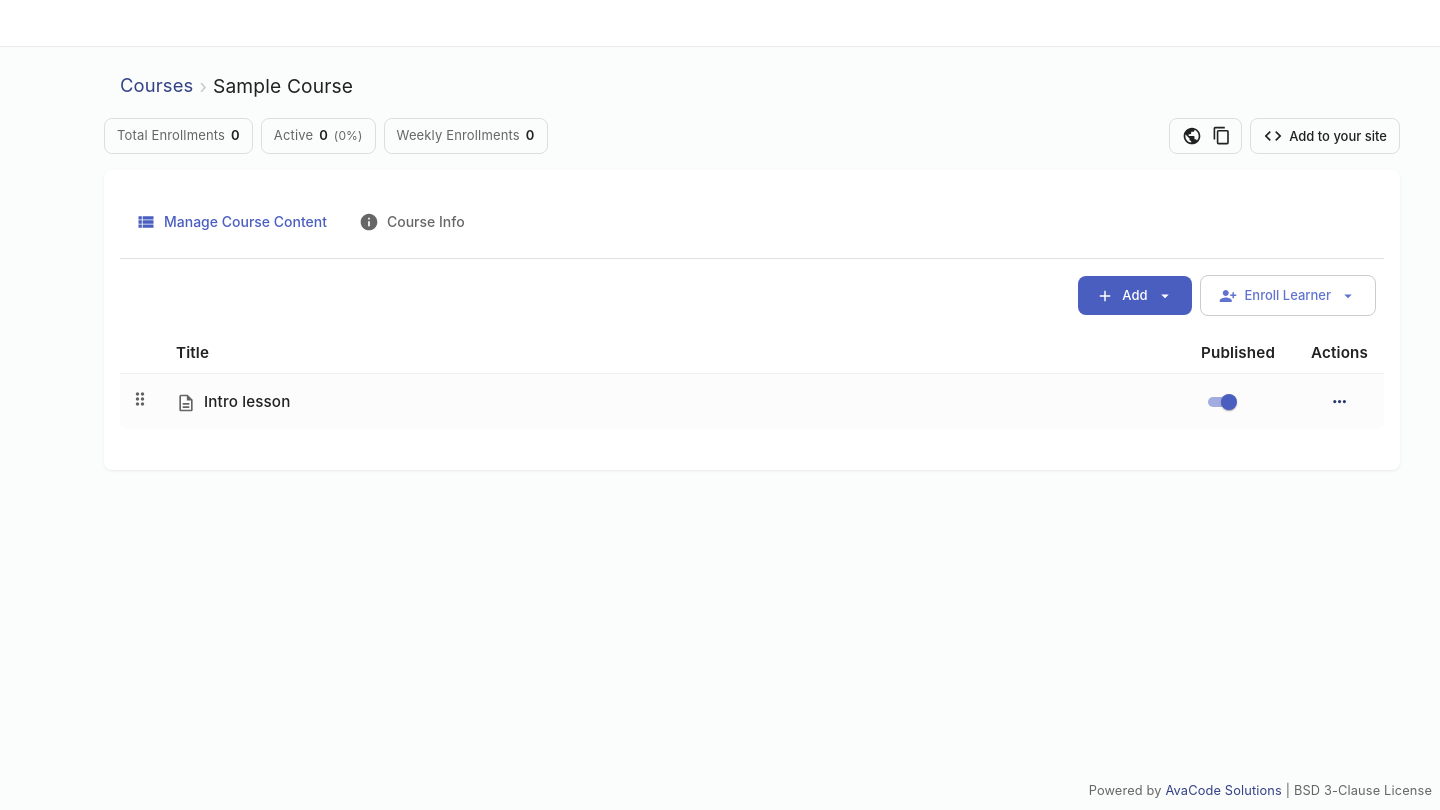
Test: Course › "Add to your site" embed button › fetches and displays the embed snippet on click
Click the button "Add to your site": (1325, 136) [1250,118,1400,154]
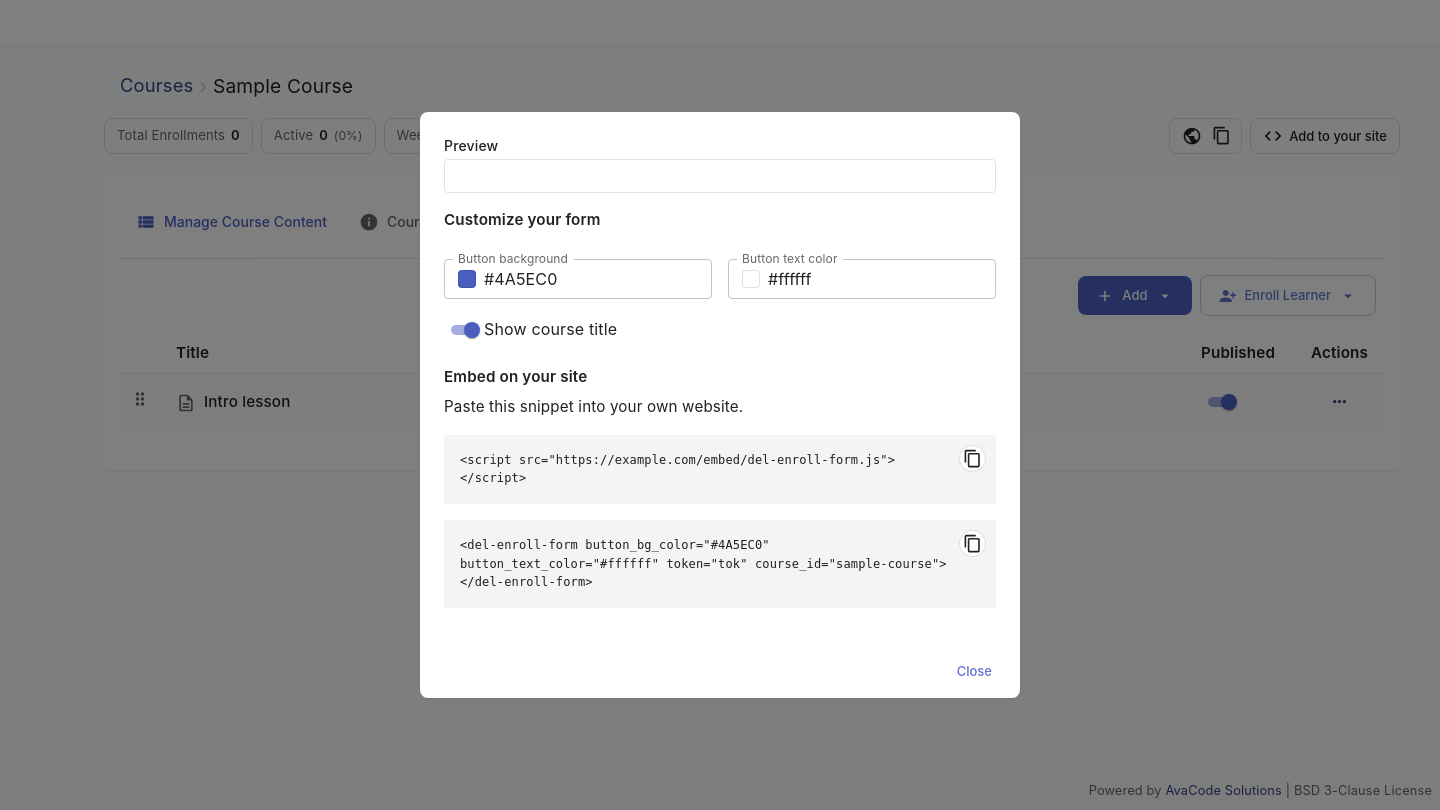
Result: the text "<script src=\"https://example.com/embed/del-enroll-form.js\"></script>" is shown at [444,435,996,504]
Result: the text "<del-enroll-form button_bg_color=\"#4A5EC0\" button_text_color=\"#ffffff\" token=\"tok\" course_id=\"sample-course\"></del-enrol" is shown at [460,538,947,589]
